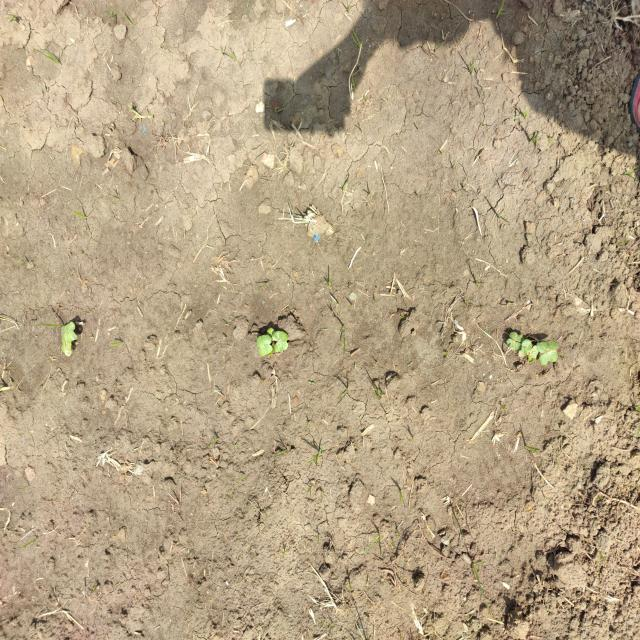seedling: (518, 339, 532, 360), (536, 340, 558, 353), (539, 350, 558, 365), (506, 338, 522, 352), (528, 345, 539, 363), (272, 331, 288, 342), (274, 341, 288, 353), (259, 344, 273, 356), (257, 335, 271, 347), (62, 322, 75, 334), (63, 331, 77, 342), (509, 332, 524, 342), (64, 341, 72, 356), (61, 339, 65, 353)
